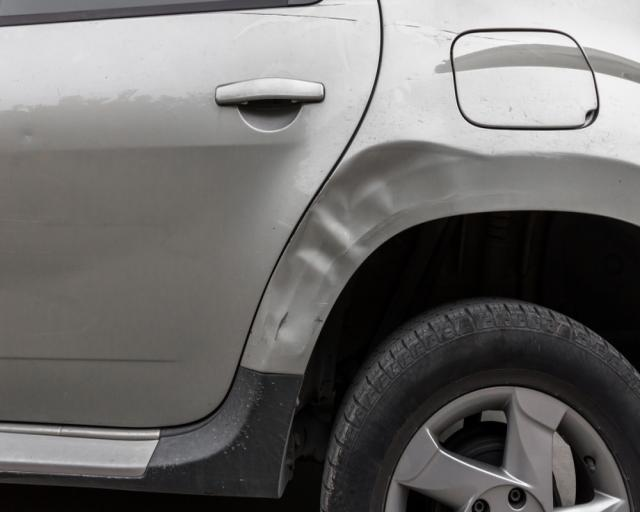dent: (260, 139, 464, 353)
